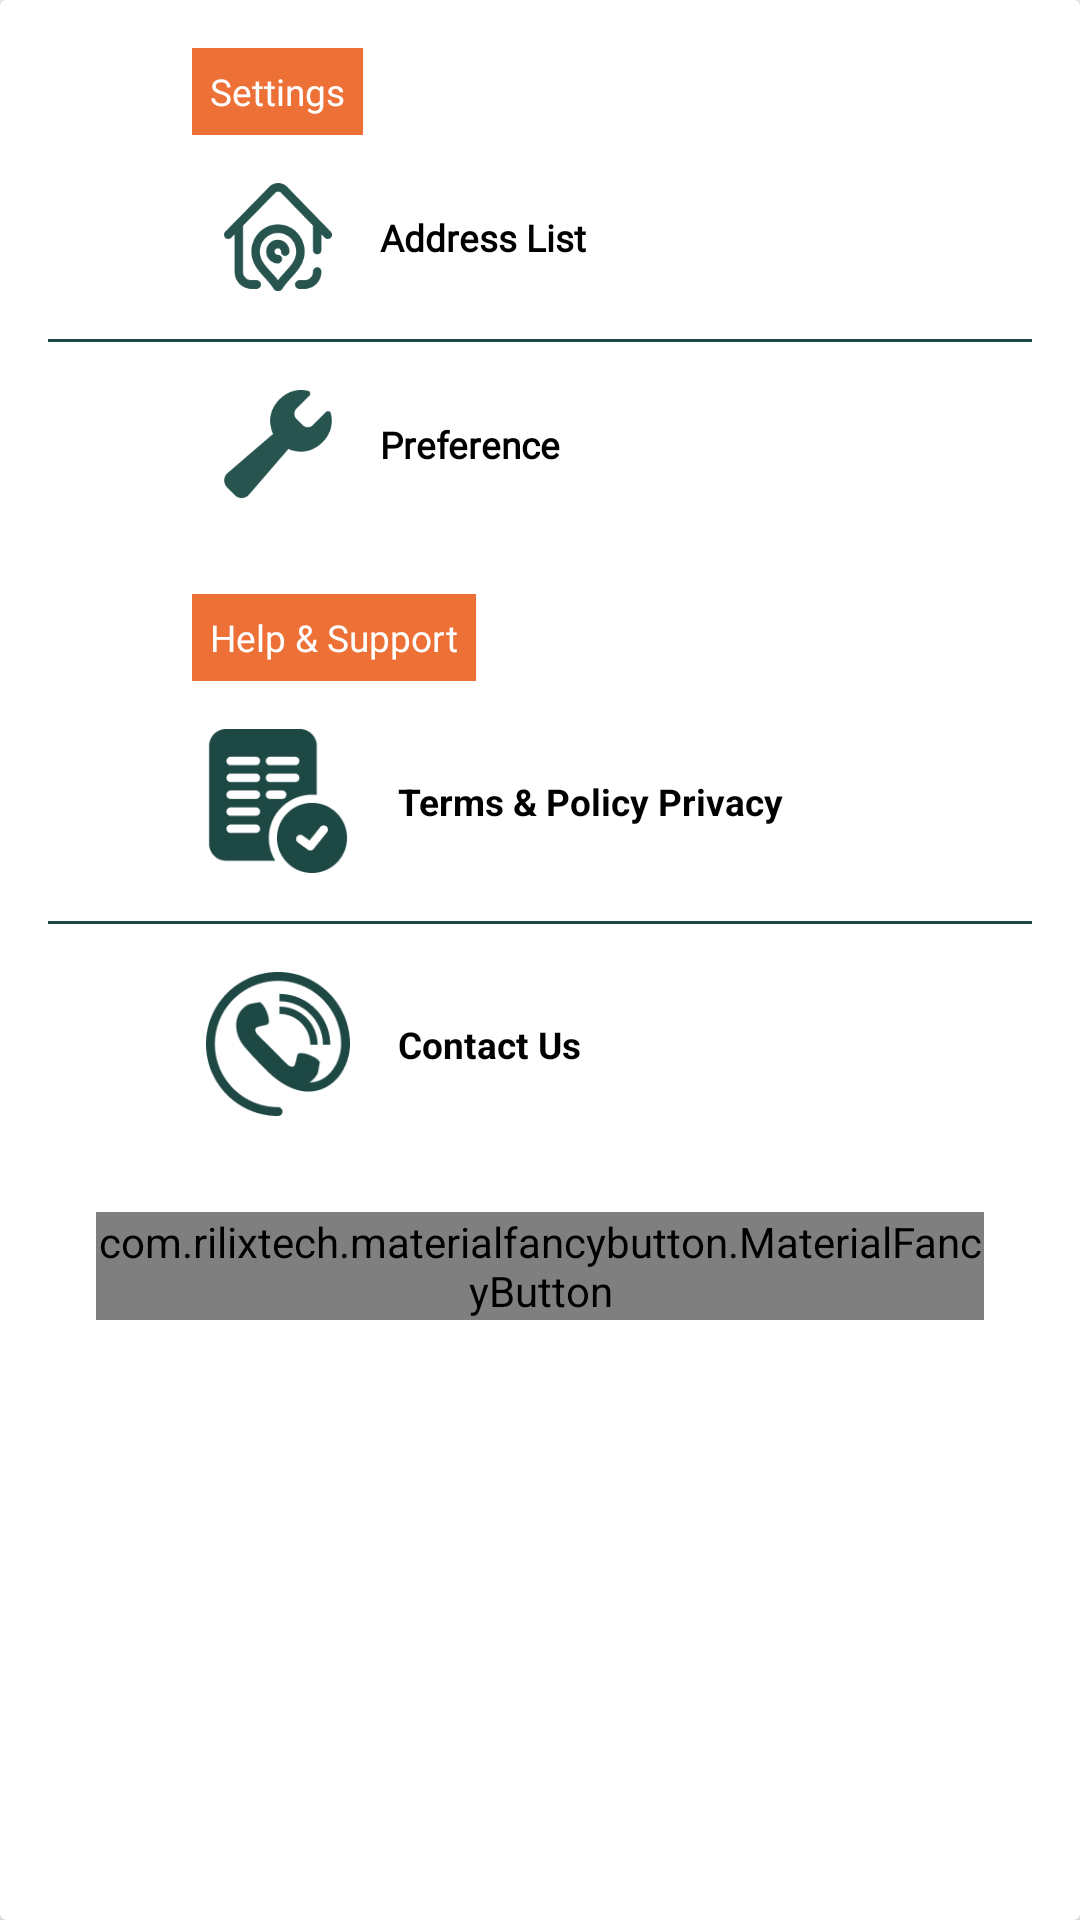

Point at icon controls on the screen. Image size 1080x1920, points as (x,y).
term and policy: (278,801)
